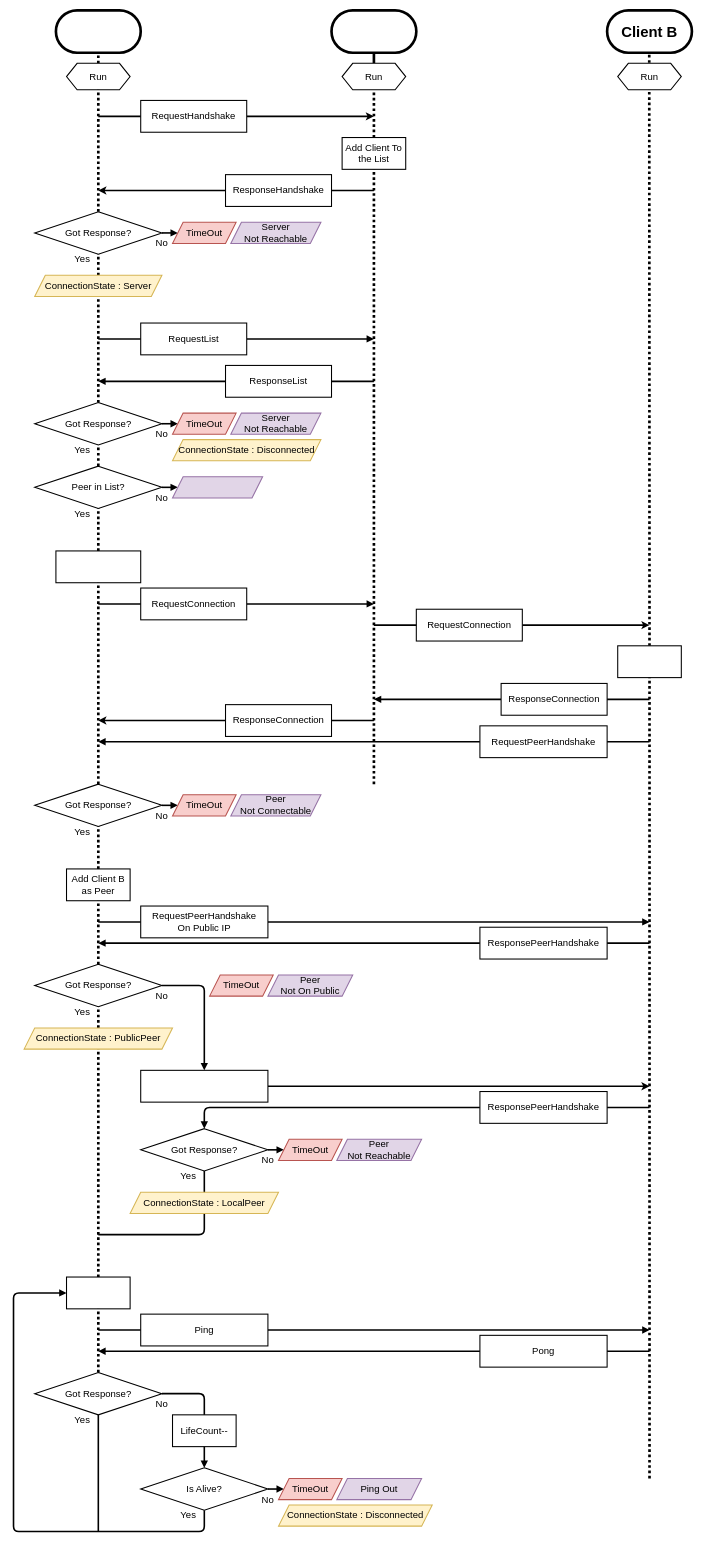
Image size: 702x1545. Some labels were removed from this diagram. The shapes that lost their labels are listed below. From the top down, each one's centre as x and y in pixels, then its label:
At [98,31]: "Client A".
At [373,31]: "Signaling Server".
At [217,487]: "No Connectable Peer".
At [98,566]: "Select Client B in PeerList".
At [649,661]: "Add Client A as Peer".
At [204,1086]: "RequestPeerHandshake On Local IP".
At [98,1292]: "Start Ping".
